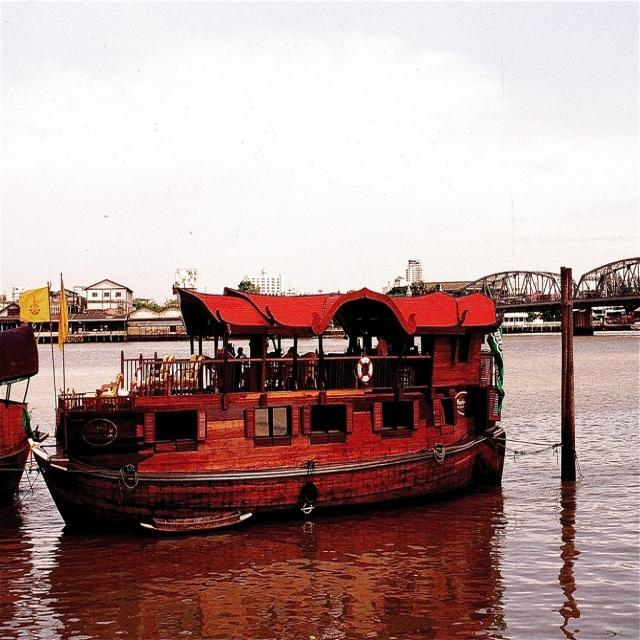boat: (28, 283, 513, 508), (135, 512, 255, 544)
